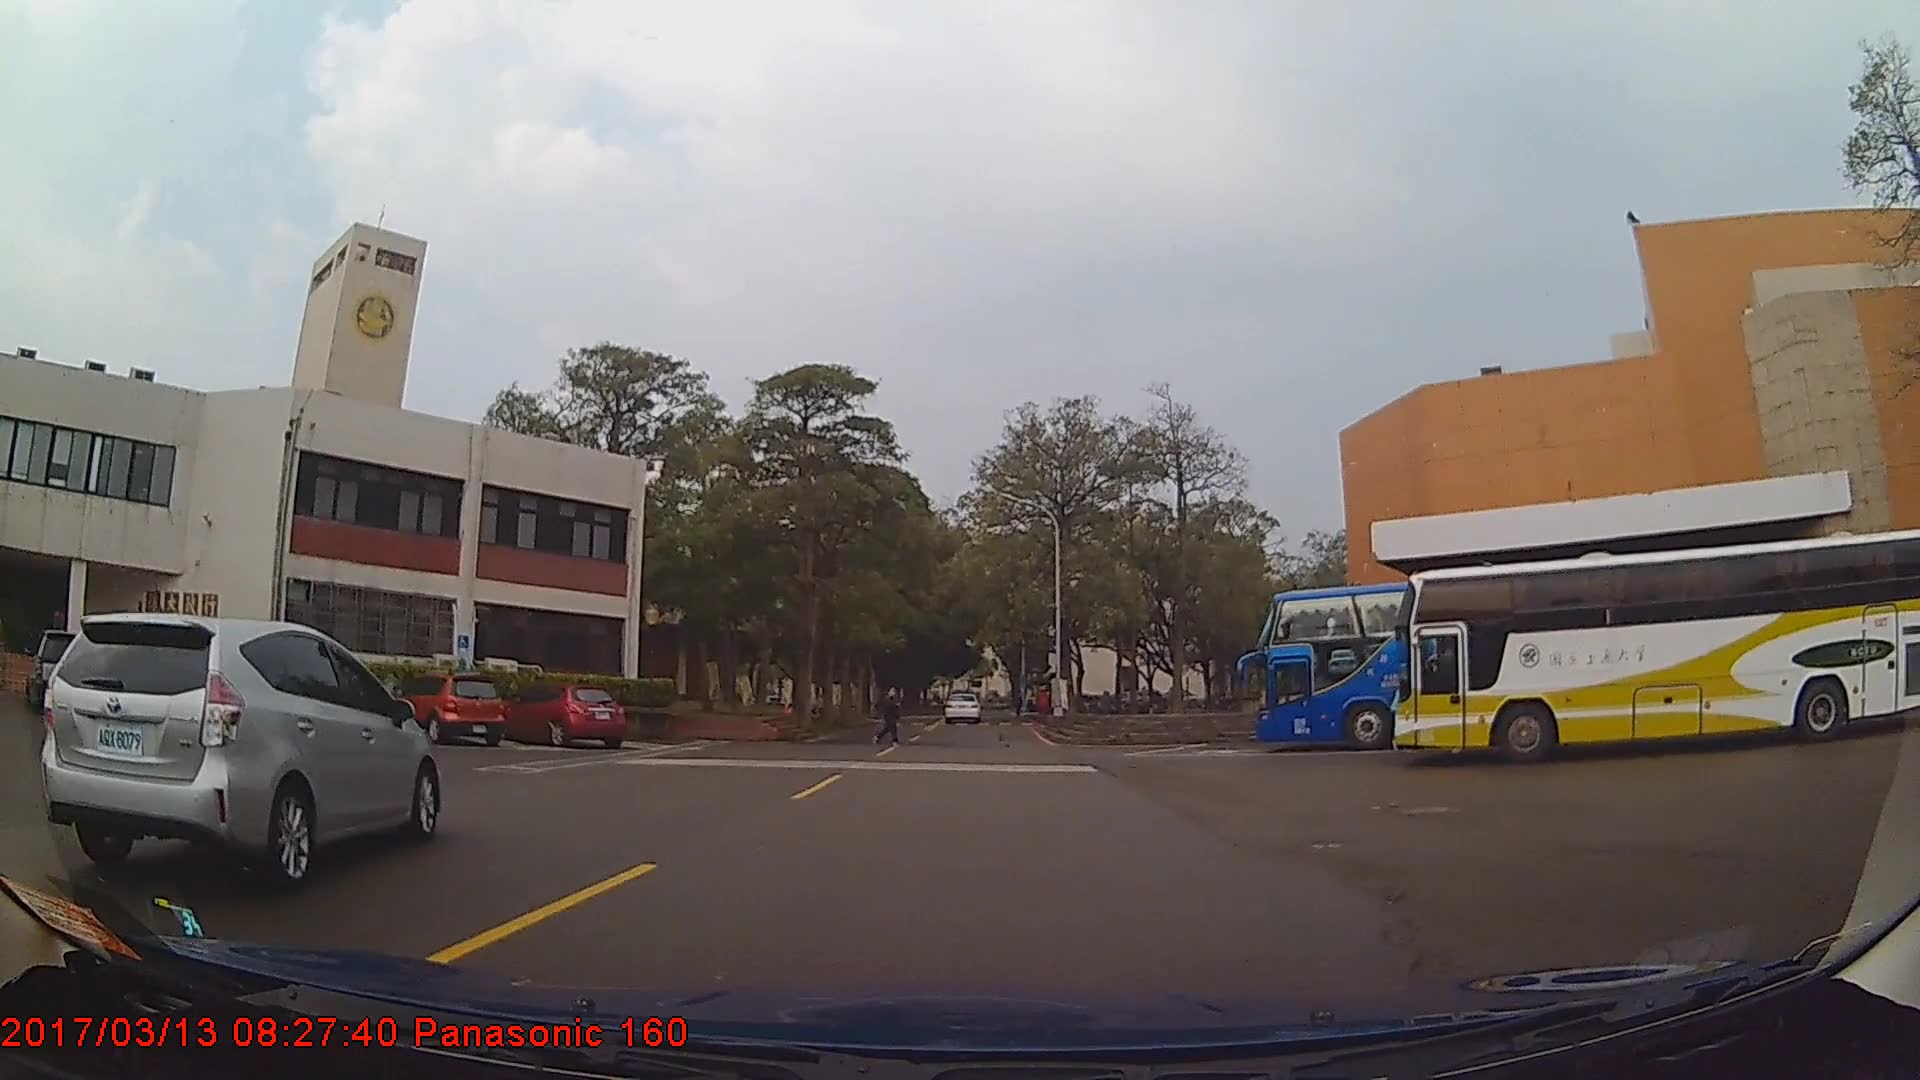pedestrian: (880, 686, 902, 748)
vehicle: (1393, 527, 1920, 768), (39, 612, 438, 882), (1256, 575, 1816, 754), (498, 682, 628, 751), (398, 674, 504, 747), (944, 692, 981, 724)
